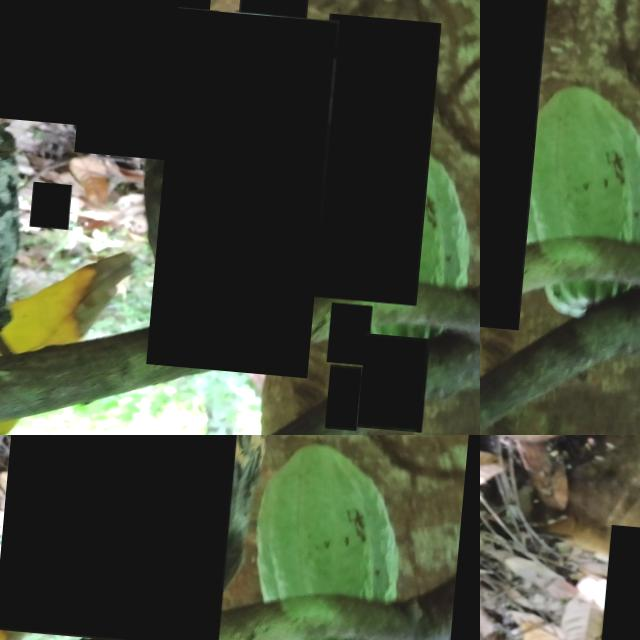Fitoftora: (335, 294, 380, 356)
Sana: (155, 2, 341, 370), (2, 435, 250, 640), (312, 5, 444, 295), (480, 0, 554, 321), (79, 0, 220, 157), (0, 0, 116, 122), (368, 324, 438, 422), (335, 356, 371, 422), (239, 0, 313, 32), (36, 178, 78, 227)
